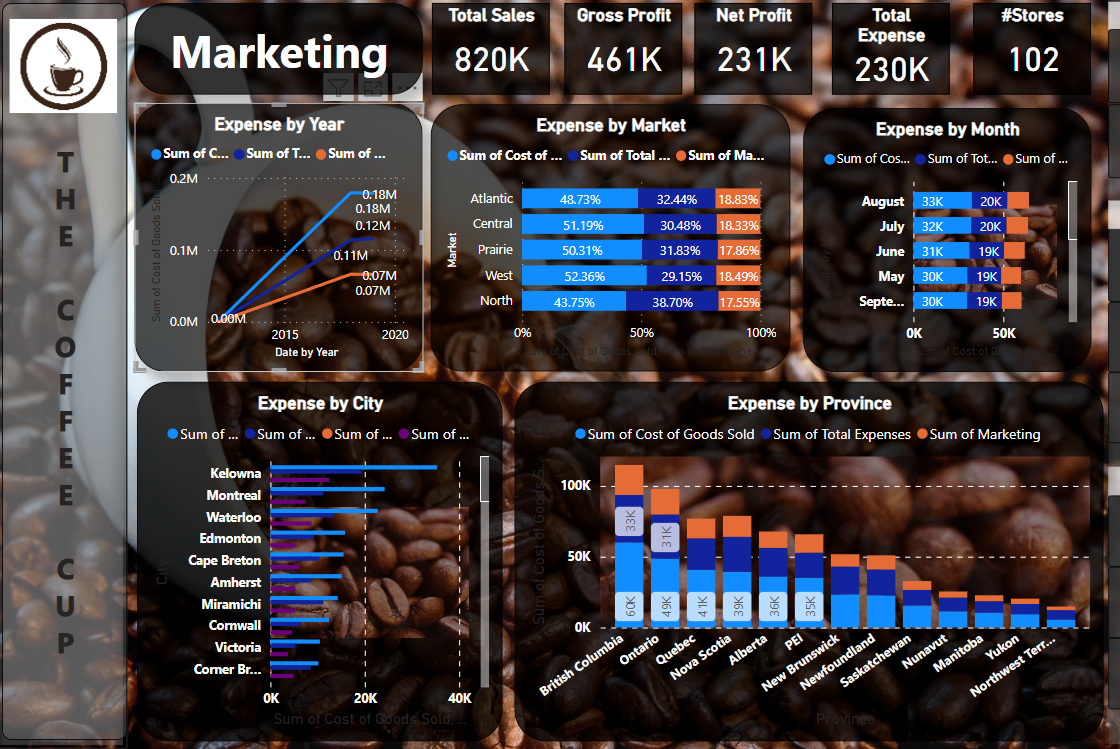

The page's visual inventory and layout, read from the dashboard file:
{"tool":"powerbi","page":{"name":"Expense","canvas":[1280,720],"ordinal":2},"visuals":[{"type":"shape","box":[1058,0,222,720],"z":0},{"type":"shape","box":[0,0,128.8,719.8],"z":1000},{"type":"textbox","box":[9.6,9.6,119.2,701.5],"z":2000},{"type":"slicer","fields":{"Values":["Clean.Province"]},"box":[1063,294,211,68],"z":3000},{"type":"slicer","fields":{"Values":["Clean.City"]},"box":[1063,360,211,68],"z":4000},{"type":"lineChart","title":"Expense by Year","fields":{"Category":["Clean.Date by Year"],"Y":["Sum(Clean.Cost of Goods Sold)","Sum(Clean.Total Expenses)","Sum(Clean.Marketing)"]},"box":[136,105,274,256],"z":5000},{"type":"image","box":[12.5,12.5,112.4,115.3],"z":6000},{"type":"slicer","fields":{"Values":["Clean.Market"]},"box":[1063,224,211,70],"z":7000},{"type":"slicer","fields":{"Values":["Clean.Product"]},"box":[1063,614,211,68],"z":8000},{"type":"slicer","fields":{"Values":["Clean.Product Type"]},"box":[1063,546,211,68],"z":9000},{"type":"slicer","fields":{"Values":["Clean.Date by Month"]},"box":[1063,106,211,70],"z":10000},{"type":"slicer","fields":{"Values":["Clean.Type"]},"box":[1063,478,211,68],"z":11000},{"type":"textbox","title":"Product","box":[1063,451,211,27],"z":12000},{"type":"textbox","title":"Timeline","box":[1063,8,211,27],"z":13000},{"type":"textbox","title":"Region","box":[1063,197,211,27],"z":14000},{"type":"slicer","fields":{"Values":["Clean.Date by Year"]},"box":[1063,35,211,70],"z":15000},{"type":"barChart","title":"Expense by Month","fields":{"Category":["Clean.Date by Month"],"Y":["Sum(Clean.Cost of Goods Sold)","Sum(Clean.Total Expenses)","Sum(Clean.Marketing)"]},"box":[772,109,274,251],"z":16000},{"type":"hundredPercentStackedBarChart","title":"Expense by Market","fields":{"Category":["Clean.Market"],"Y":["Sum(Clean.Cost of Goods Sold)","Sum(Clean.Total Expenses)","Sum(Clean.Marketing)"]},"box":[418,106,342,254],"z":17000},{"type":"lineStackedColumnComboChart","title":"Expense by Province","fields":{"Category":["Clean.Province"],"Y":["Sum(Clean.Cost of Goods Sold)","Sum(Clean.Total Expenses)","Sum(Clean.Marketing)"]},"box":[497,370,561,342],"z":18000},{"type":"clusteredBarChart","title":"Expense by City","fields":{"Category":["Clean.City"],"Y":["Sum(Clean.Cost of Goods Sold)","Sum(Clean.Total Expenses)","Sum(Clean.Market expense to Sales Ratio)","Sum(Clean.Marketing)"]},"box":[138,370,348,342],"z":19000},{"type":"card","title":"Total Sales","fields":{"Values":["Sum(Clean.Sales)"]},"box":[419,10,112,87],"z":20000},{"type":"textbox","box":[136,10,274,87],"z":21000},{"type":"card","title":"Gross Profit","fields":{"Values":["Sum(Clean.Gross Margin / Gross Profit)"]},"box":[545,10,112,87],"z":22000},{"type":"card","title":"Net Profit","fields":{"Values":["Sum(Clean.Net Profit)"]},"box":[669,10,112,87],"z":23000},{"type":"card","title":"Total Expense","fields":{"Values":["Sum(Clean.Total Expenses)"]},"box":[800,10,112,87],"z":24000},{"type":"card","title":"#Stores","fields":{"Values":["Count(Clean.Store#)"]},"box":[934,10,112,87],"z":25000}]}

Visuals, with their boxes on the page's 1280x720 design canvas (x1, y1, x2, y2). These are canvas units, not pixel positions in the 1120x749 screenshot, which may show the page scaled, cropped or inside an application window:
shape: x1=1058 y1=0 x2=1280 y2=720
shape: x1=0 y1=0 x2=129 y2=720
textbox: x1=10 y1=10 x2=129 y2=711
slicer - Clean.Province: x1=1063 y1=294 x2=1274 y2=362
slicer - Clean.City: x1=1063 y1=360 x2=1274 y2=428
"Expense by Year" lineChart: x1=136 y1=105 x2=410 y2=361
image: x1=12 y1=12 x2=125 y2=128
slicer - Clean.Market: x1=1063 y1=224 x2=1274 y2=294
slicer - Clean.Product: x1=1063 y1=614 x2=1274 y2=682
slicer - Clean.Product Type: x1=1063 y1=546 x2=1274 y2=614
slicer - Clean.Date by Month: x1=1063 y1=106 x2=1274 y2=176
slicer - Clean.Type: x1=1063 y1=478 x2=1274 y2=546
"Product" textbox: x1=1063 y1=451 x2=1274 y2=478
"Timeline" textbox: x1=1063 y1=8 x2=1274 y2=35
"Region" textbox: x1=1063 y1=197 x2=1274 y2=224
slicer - Clean.Date by Year: x1=1063 y1=35 x2=1274 y2=105
"Expense by Month" barChart: x1=772 y1=109 x2=1046 y2=360
"Expense by Market" hundredPercentStackedBarChart: x1=418 y1=106 x2=760 y2=360
"Expense by Province" lineStackedColumnComboChart: x1=497 y1=370 x2=1058 y2=712
"Expense by City" clusteredBarChart: x1=138 y1=370 x2=486 y2=712
"Total Sales" card: x1=419 y1=10 x2=531 y2=97
textbox: x1=136 y1=10 x2=410 y2=97
"Gross Profit" card: x1=545 y1=10 x2=657 y2=97
"Net Profit" card: x1=669 y1=10 x2=781 y2=97
"Total Expense" card: x1=800 y1=10 x2=912 y2=97
"#Stores" card: x1=934 y1=10 x2=1046 y2=97
